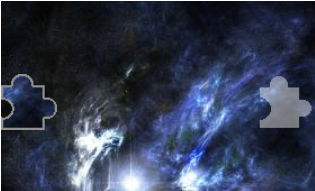target: (257, 74, 314, 131)
